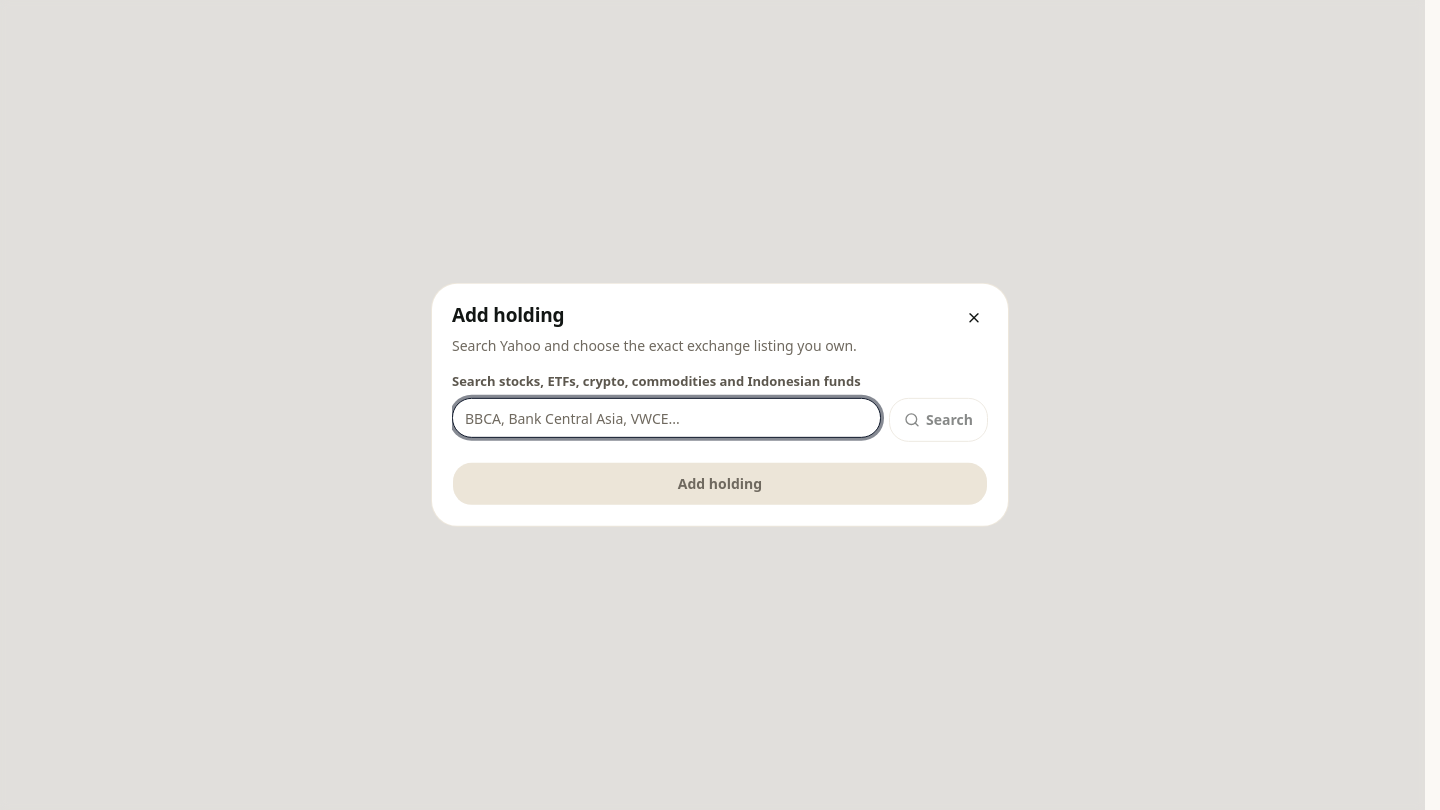
Test: AddHoldingDialog › shows provider failures and keeps the dialog usable for retry
Type "BBCA" into the field labelled "Search stocks, ETFs" at (667, 418), box x1=452 y1=398 x2=881 y2=438
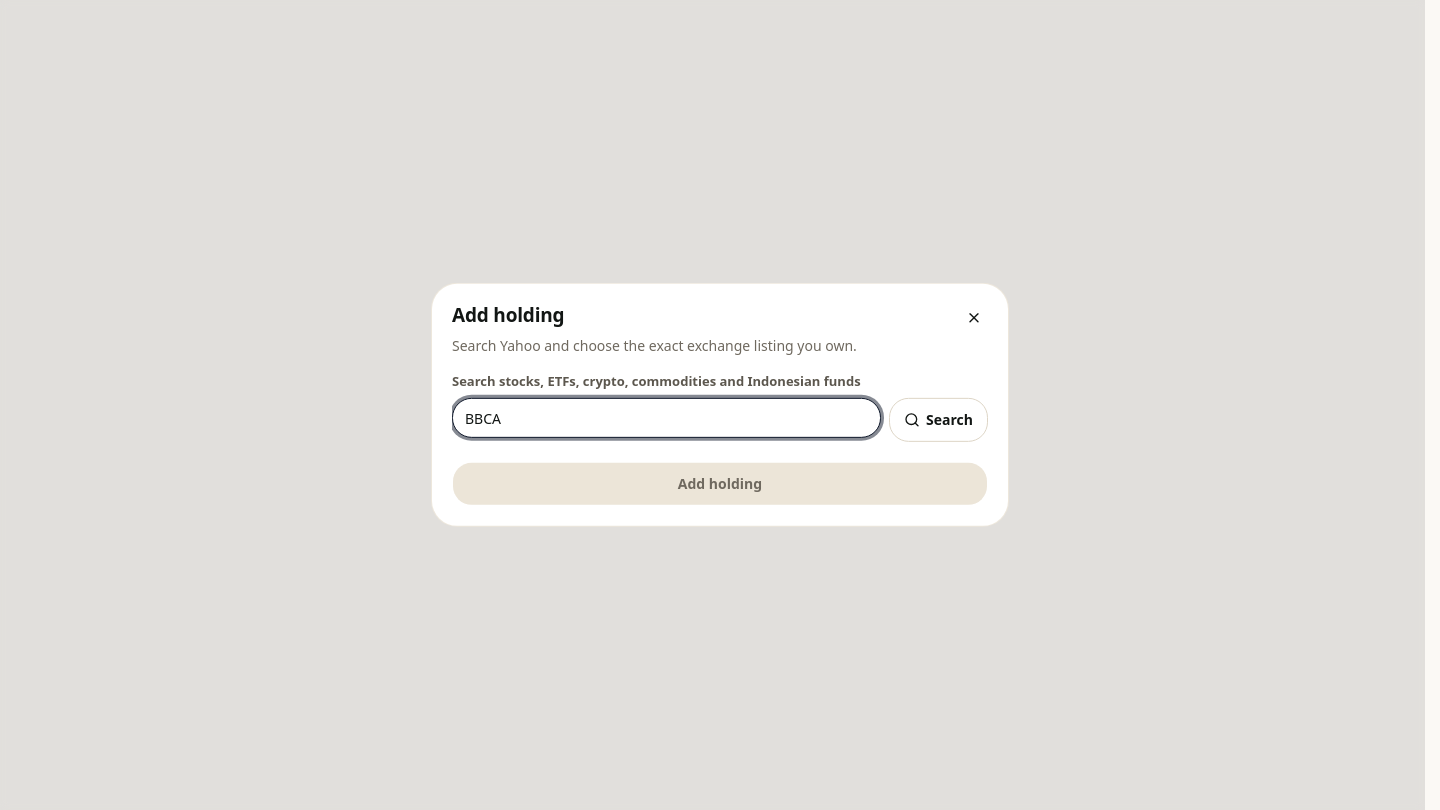
Click the button "Search" at (939, 420), box x1=889 y1=398 x2=988 y2=442
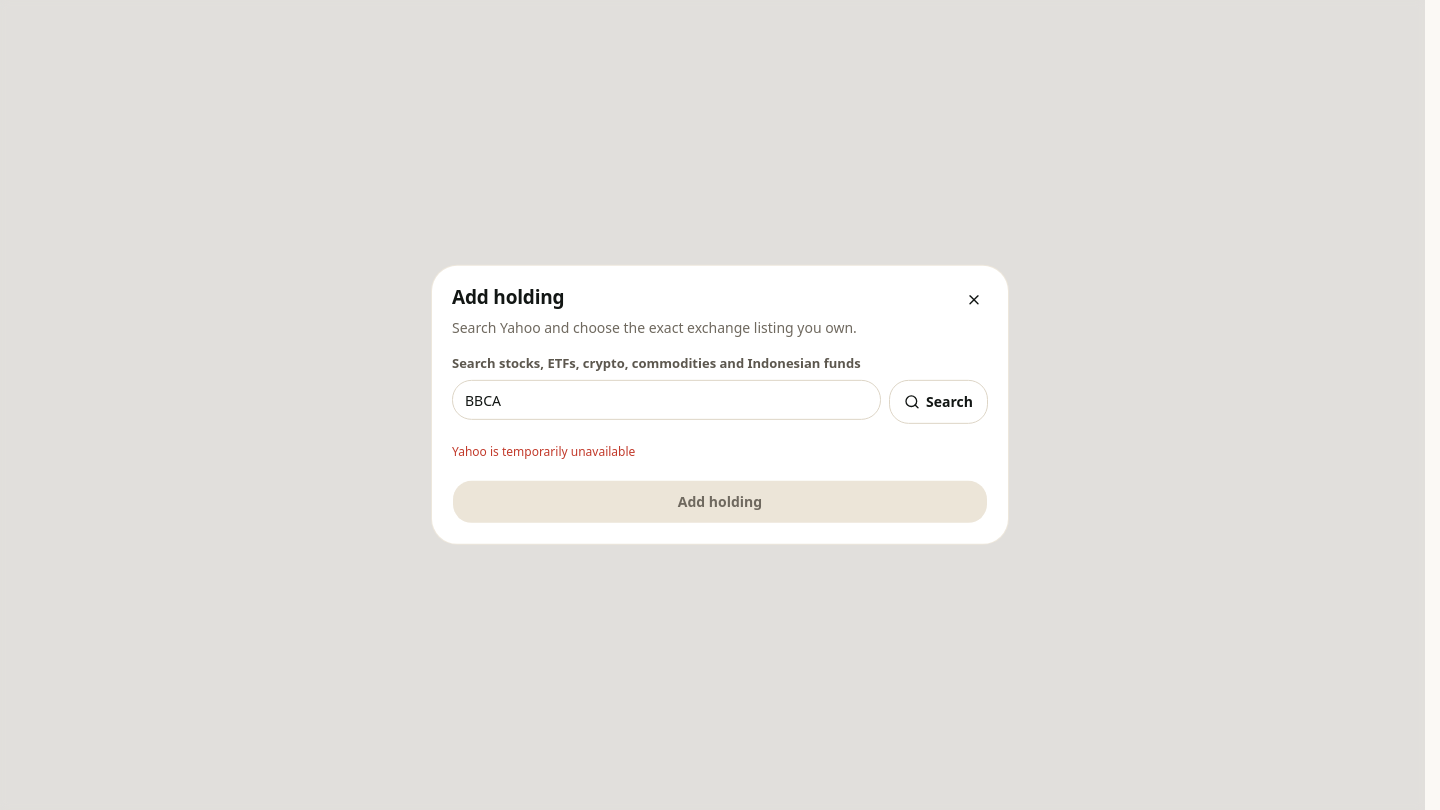
Check: the button "Search" is enabled, box x1=889 y1=380 x2=988 y2=424
Check: the text "Yahoo is temporarily unavailable" is shown, box x1=452 y1=443 x2=635 y2=460
